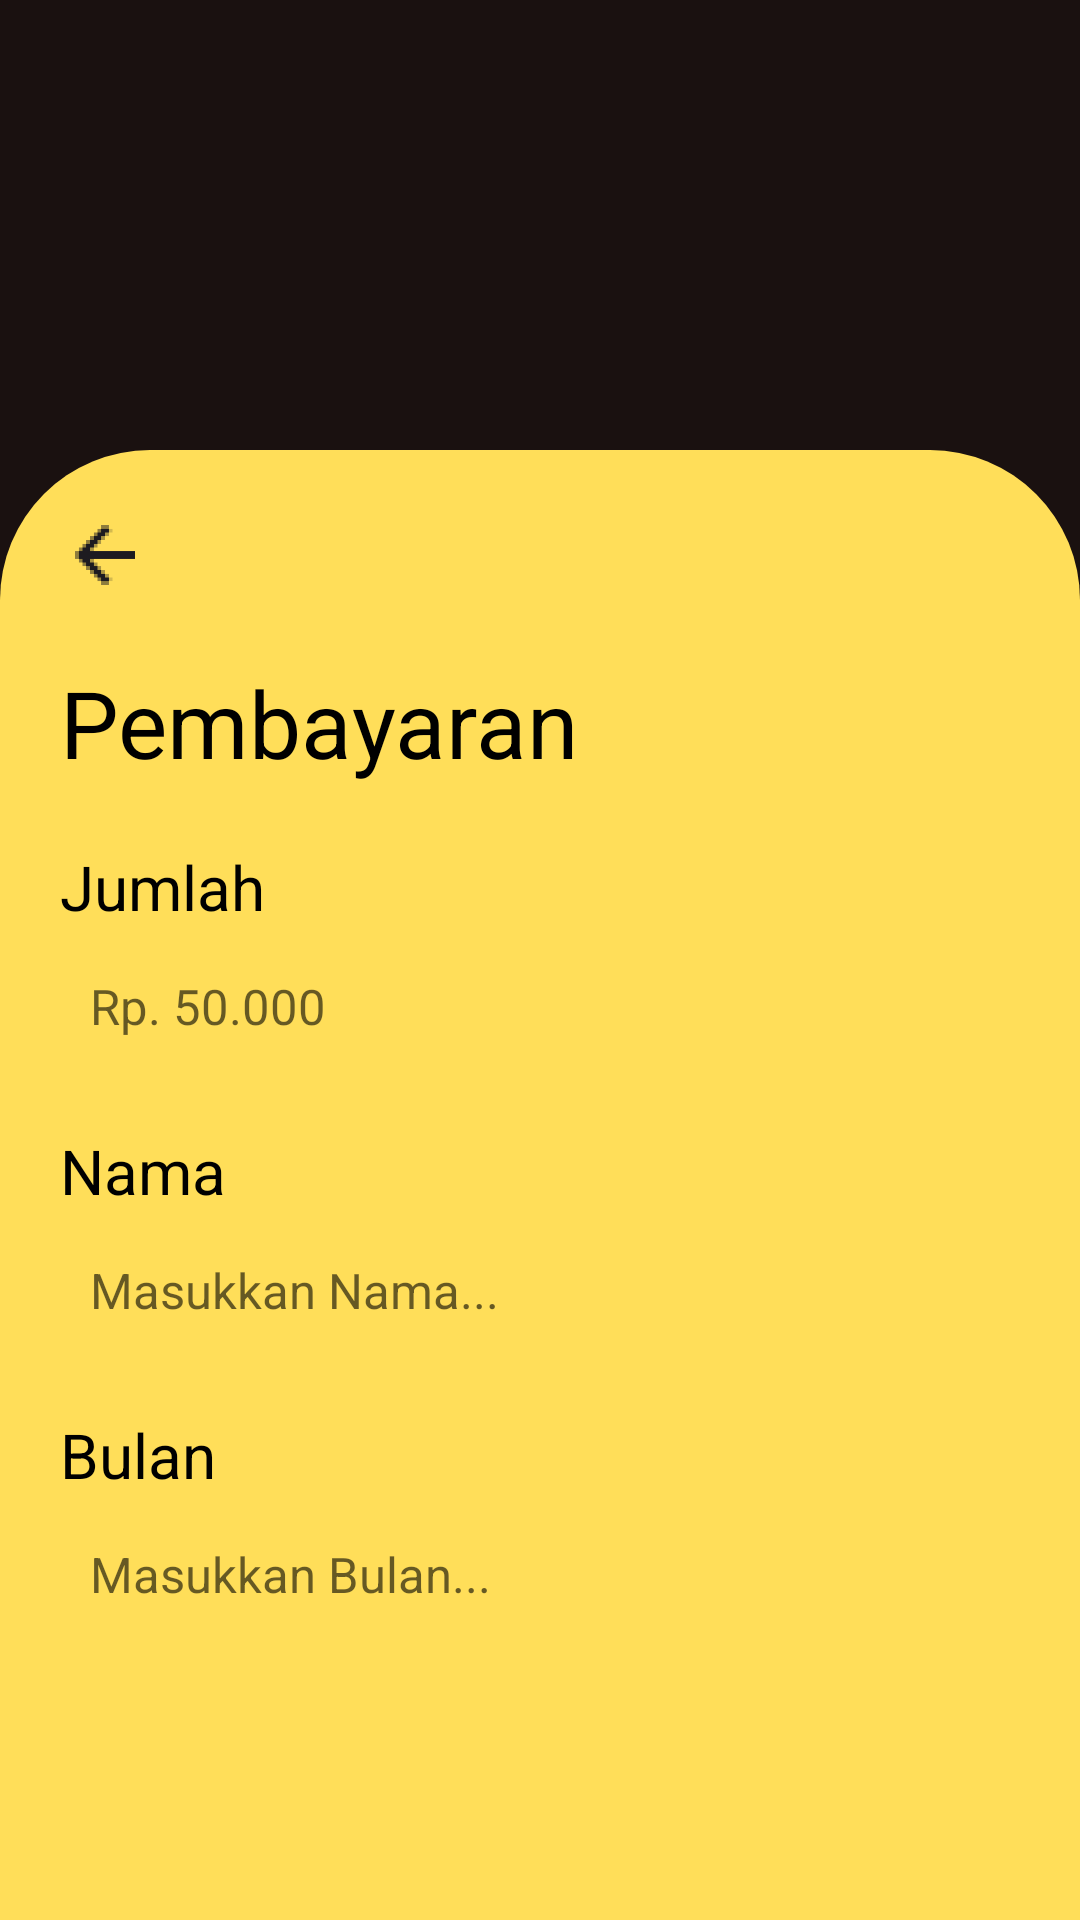

Where to tap for icons on this 1080 × 1920 app screen, as (x,y):
back: (105,555)
